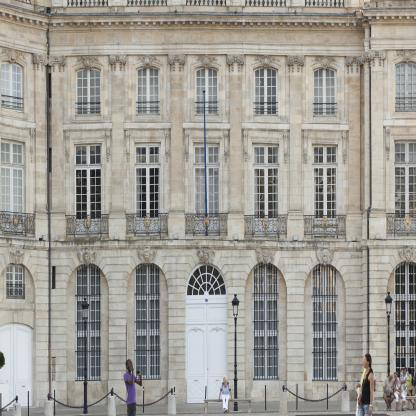Building Outline: (0, 0, 416, 406)
Cornice: (300, 122, 349, 164), (241, 122, 290, 164), (63, 122, 113, 163), (123, 122, 172, 163), (182, 122, 231, 163), (311, 56, 339, 71), (76, 246, 97, 266), (196, 245, 216, 265), (252, 55, 280, 69), (137, 245, 156, 265), (75, 56, 100, 71), (315, 247, 335, 265), (256, 246, 276, 264), (194, 55, 219, 69), (135, 55, 160, 68)
Door: (185, 298, 228, 403), (74, 167, 102, 238), (253, 165, 280, 237), (193, 165, 220, 236), (312, 165, 338, 238), (135, 165, 161, 236)
Facade: (49, 0, 369, 406)
Floor: (49, 129, 369, 239), (49, 16, 369, 121)
Floor Slab: (49, 7, 369, 16), (49, 239, 369, 248), (49, 121, 369, 130)
Ground Floor: (49, 247, 369, 406)
Molding: (48, 41, 370, 57), (49, 11, 360, 27), (49, 239, 368, 251)
Pillar: (345, 55, 364, 241), (47, 55, 66, 240), (167, 54, 186, 239), (226, 54, 244, 240), (108, 54, 126, 239), (287, 55, 305, 240)
Window: (244, 262, 288, 402), (66, 263, 109, 406), (126, 262, 168, 405), (304, 263, 346, 402), (252, 262, 279, 381), (311, 263, 338, 382), (75, 263, 101, 382), (135, 262, 161, 381), (185, 262, 228, 298), (75, 66, 101, 117), (253, 65, 278, 116), (313, 66, 337, 117), (136, 65, 160, 116), (195, 65, 219, 116), (74, 143, 102, 167), (252, 142, 279, 165), (193, 142, 220, 165), (135, 142, 161, 165), (312, 143, 338, 165)
